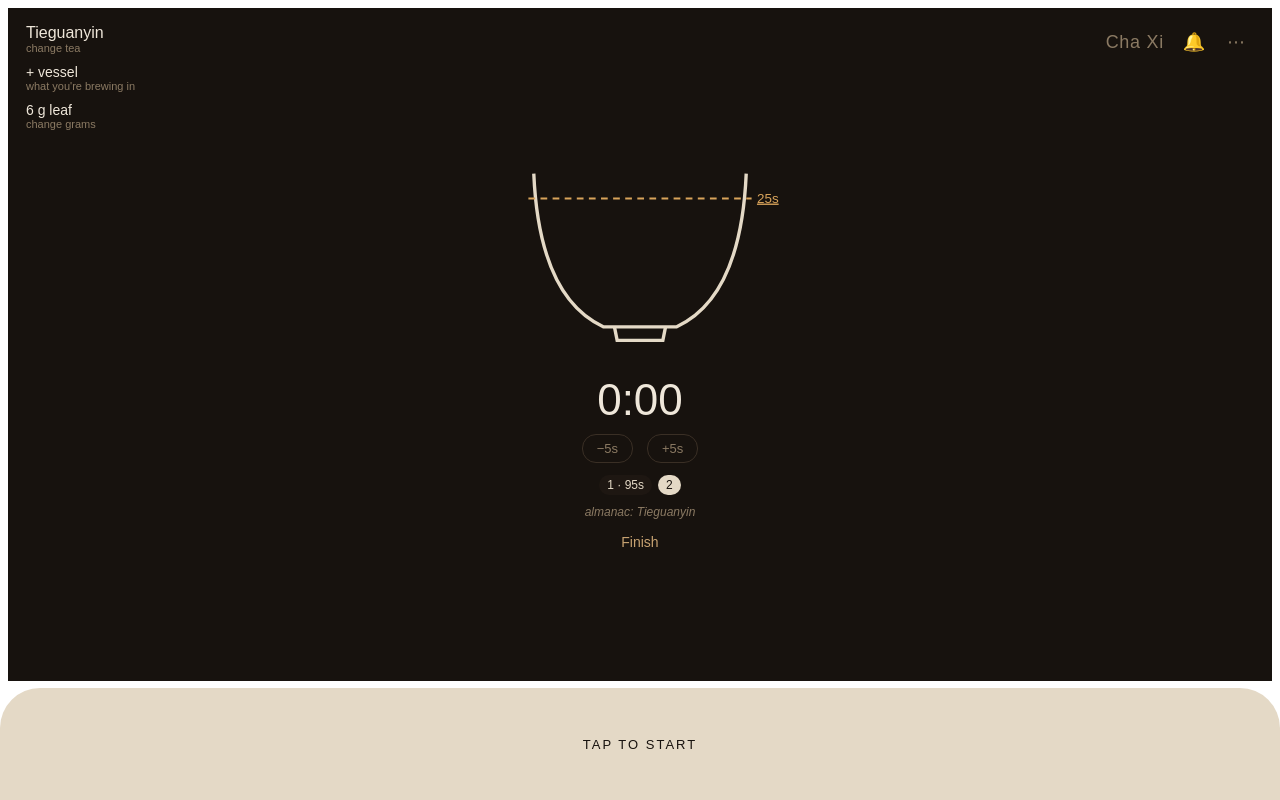
Test: TimerPage › rewrites a previous steep's time from its pill and syncs it
Click the button with test id "timer-chip-1". click: (626, 485)
box: [599,475,652,495]
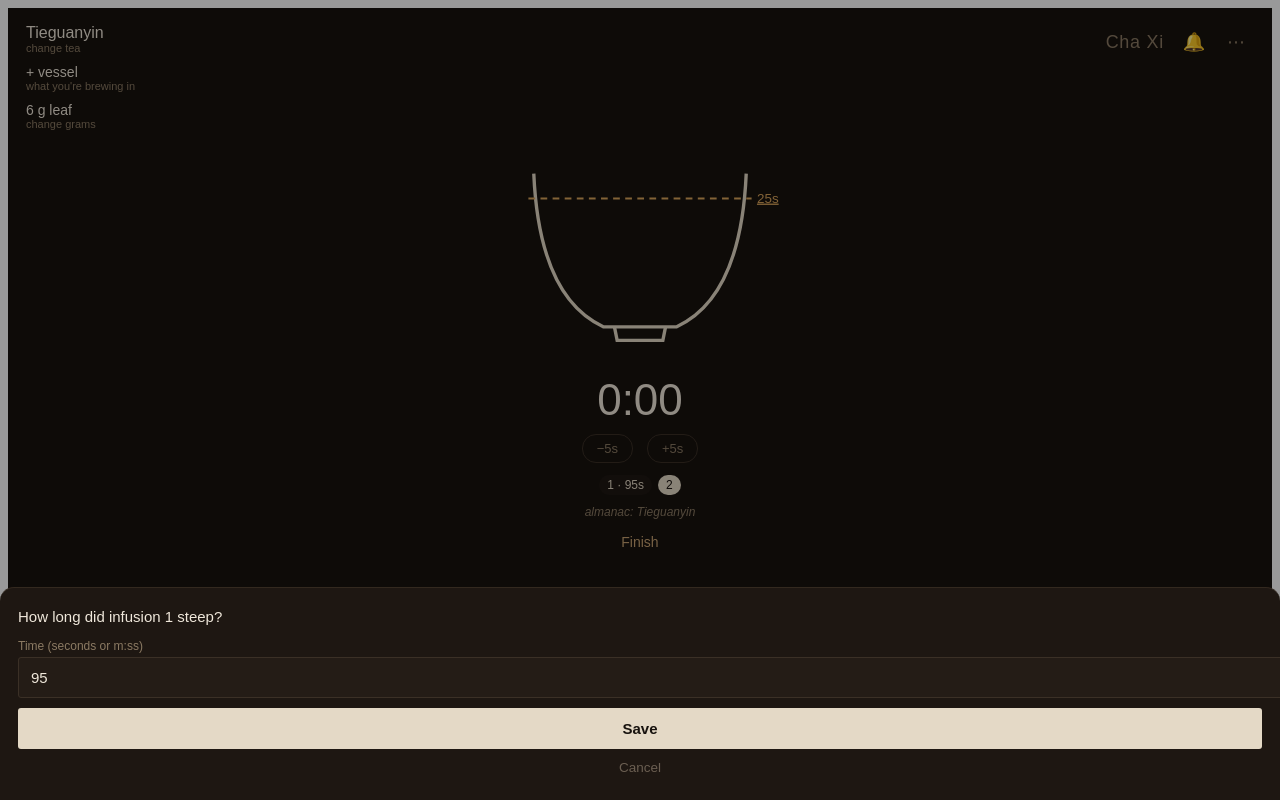
Replace the text in the field with test id "steep-seconds" with "0:30". click: (649, 678)
box: [18,657,1279,698]
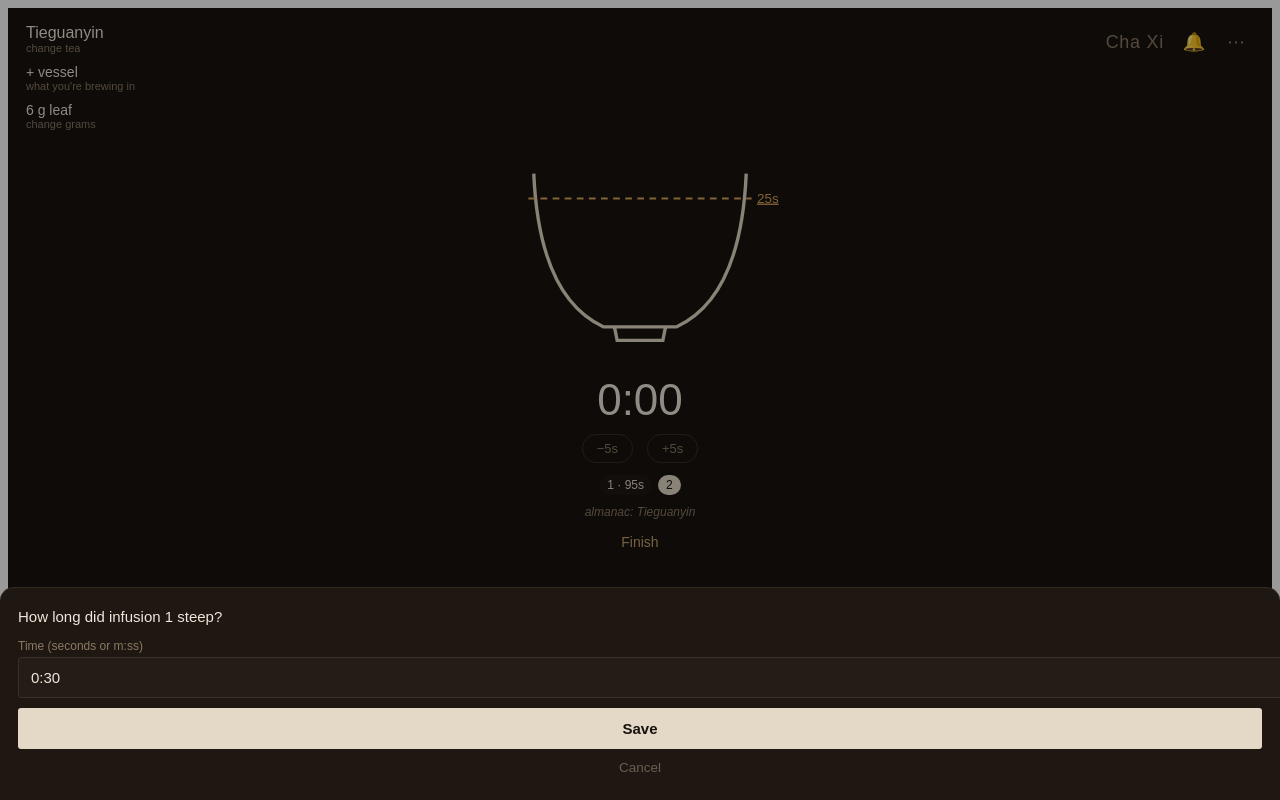
Click the button with test id "steep-save". click: (640, 728)
box: [18,708,1262,749]
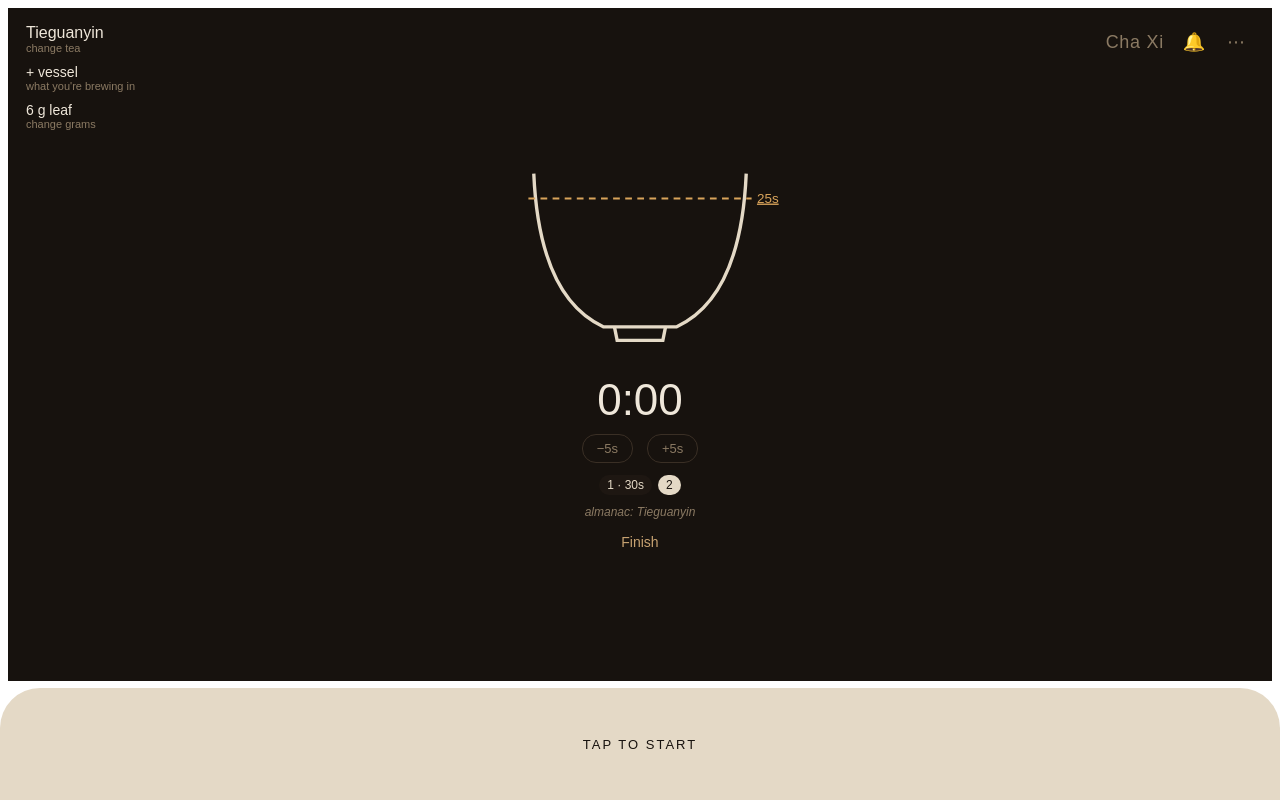
Expected: the button with test id "timer-chip-1" reads "1 · 30s", [599,475,652,495]
